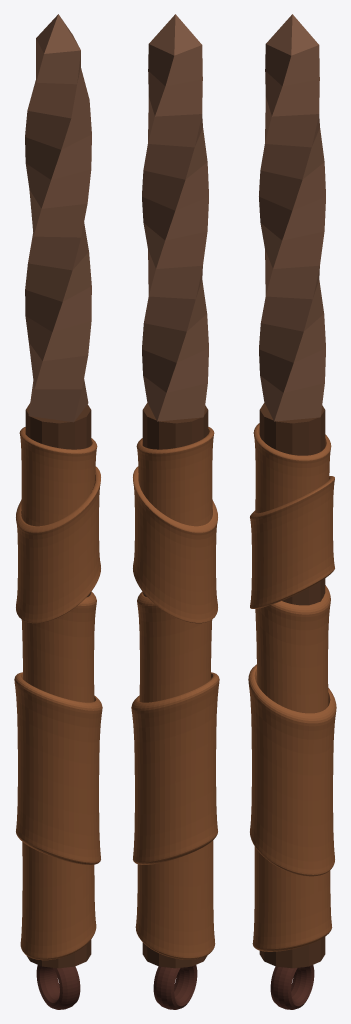
File: Wand 351.glb
3 views of the same model, side by side, from view 1: azimuth 30°, elevation 25°; view 2: azimuth 150°, elevation 25°; view 3: azimuth 330°, elevation 25° (orthographic).
Visible parts, largest first — view 1: GeneratedWand; view 2: GeneratedWand; view 3: GeneratedWand.
Part boxes in pixels (bbox=[...]): GeneratedWand: bbox=[14, 14, 102, 1009]; GeneratedWand: bbox=[131, 14, 219, 1009]; GeneratedWand: bbox=[248, 14, 336, 1009].
Bounding box in the file's own units: 0.0408 × 0.5076 × 0.0408.
